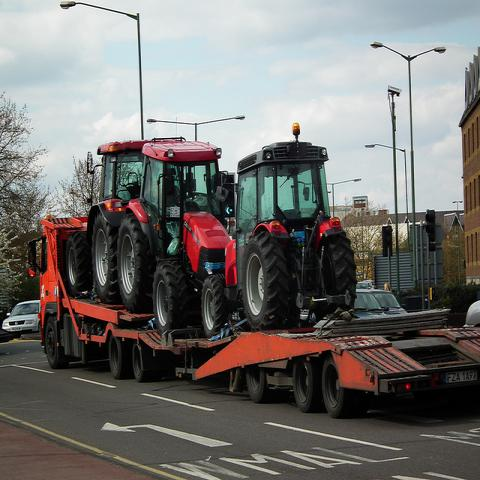car: (2, 300, 41, 333), (370, 288, 408, 316), (354, 289, 386, 319), (356, 281, 373, 289)
truck: (28, 214, 479, 417), (63, 122, 358, 338)
